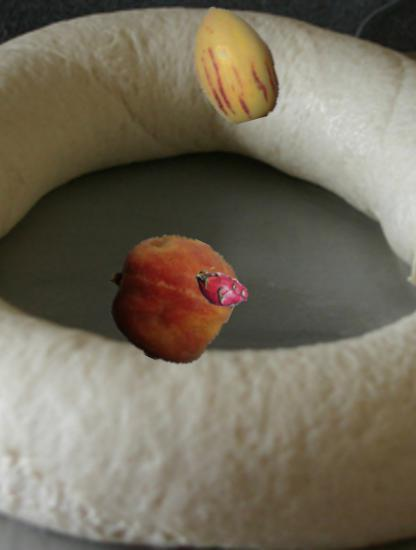Peach: (106, 233, 233, 360)
Pepino: (174, 3, 294, 123)
Pitahaya: (194, 262, 248, 316)
